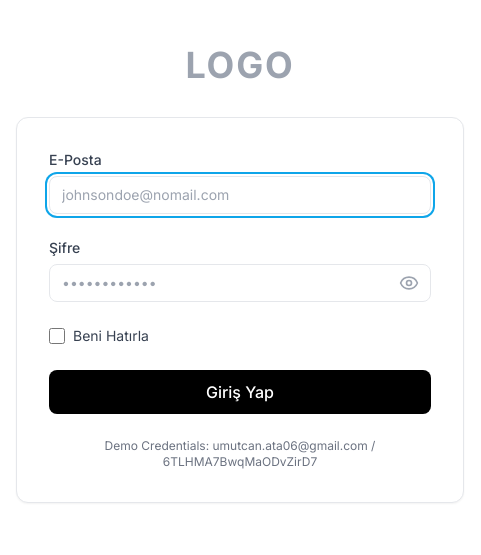
Test: LoginPage › Input Validation › should show error when email is empty
Type "password123" into the password field labelled "Şifre".
click(240, 283); type("password123")  # box left=49, top=264, right=431, bottom=302
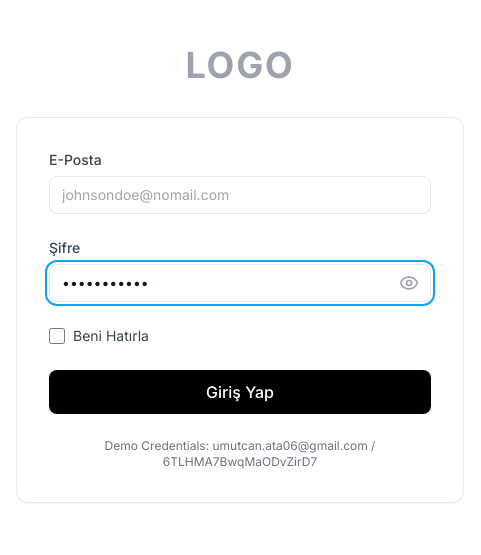
Click the button "Giriş Yap".
click(240, 392)  # box left=49, top=370, right=431, bottom=414
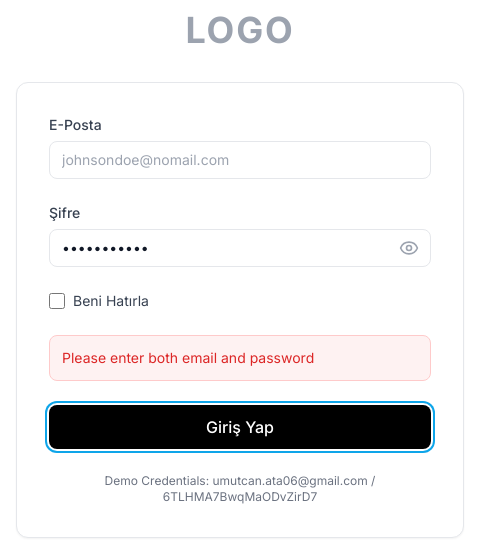
Expected: the text "Please enter both email and password" is shown, left=62, top=349, right=314, bottom=366
